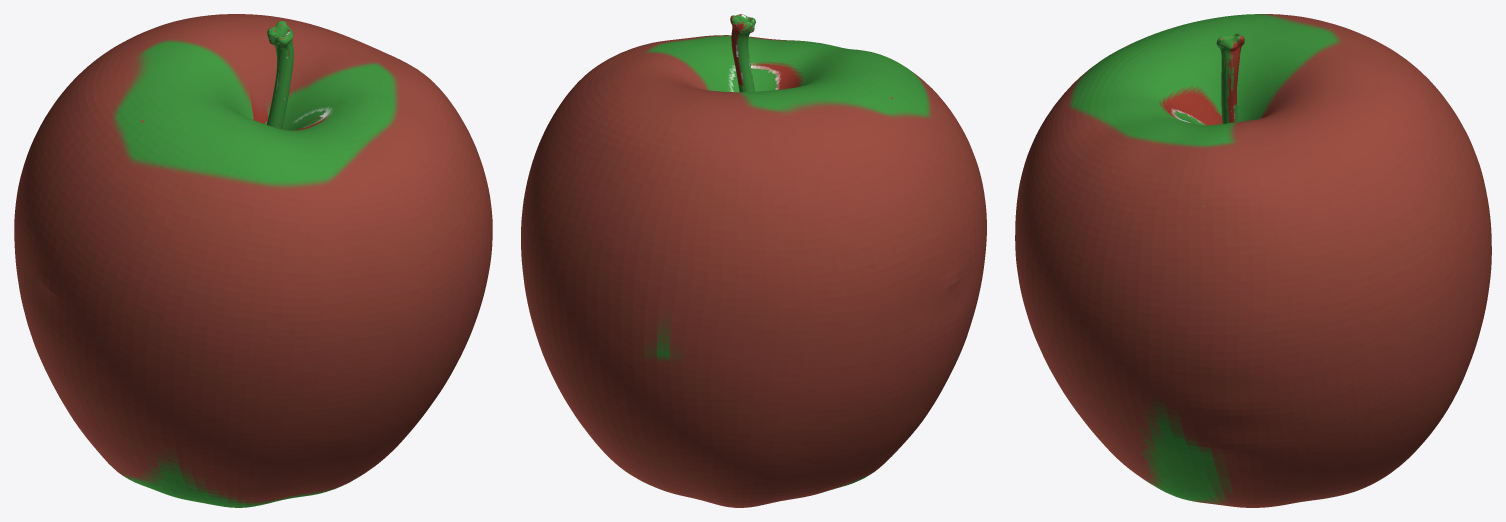
File: apple.obj
3 views of the same model, side by side, from view 1: azimuth 30°, elevation 25°; view 2: azimuth 150°, elevation 25°; view 3: azimuth 270°, elevation 25° (orthographic). The views are drawn at different scales.
Parts seen in each view (by area): view 1: Mesh_0; view 2: Mesh_0; view 3: Mesh_0.
Boxes of the visible parts, x1=… form: Mesh_0: x1=14, y1=14, x2=492, y2=507; Mesh_0: x1=521, y1=14, x2=986, y2=507; Mesh_0: x1=1015, y1=14, x2=1491, y2=507.
Size of the model in its own units: 1.07 by 1.1 by 1.06.
1 material, 1 textured.
